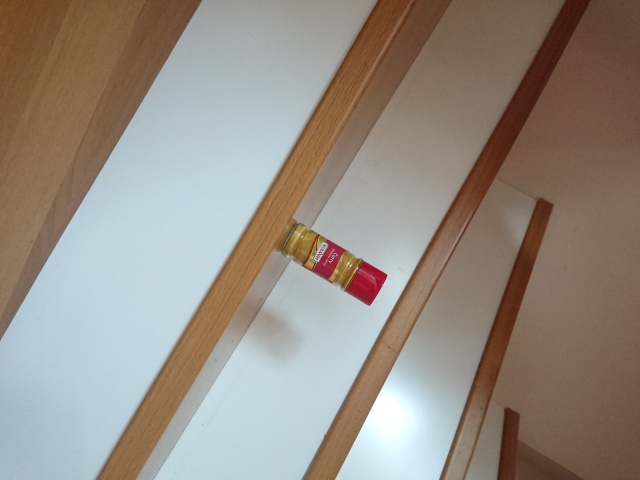Kotanyi Curry Spices Mix 70g: (278, 221, 389, 308)
